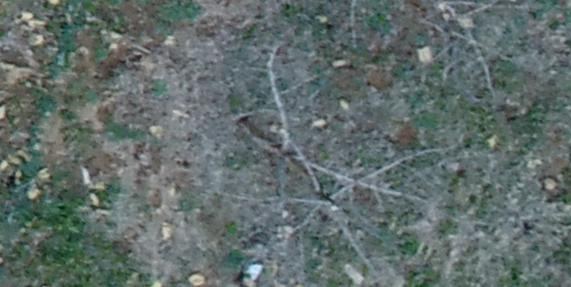apple: (170, 57, 472, 268)
